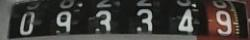digits: (214, 10, 232, 35), (135, 8, 153, 30), (177, 8, 193, 32), (19, 11, 35, 34), (94, 10, 112, 30), (56, 11, 71, 32)
